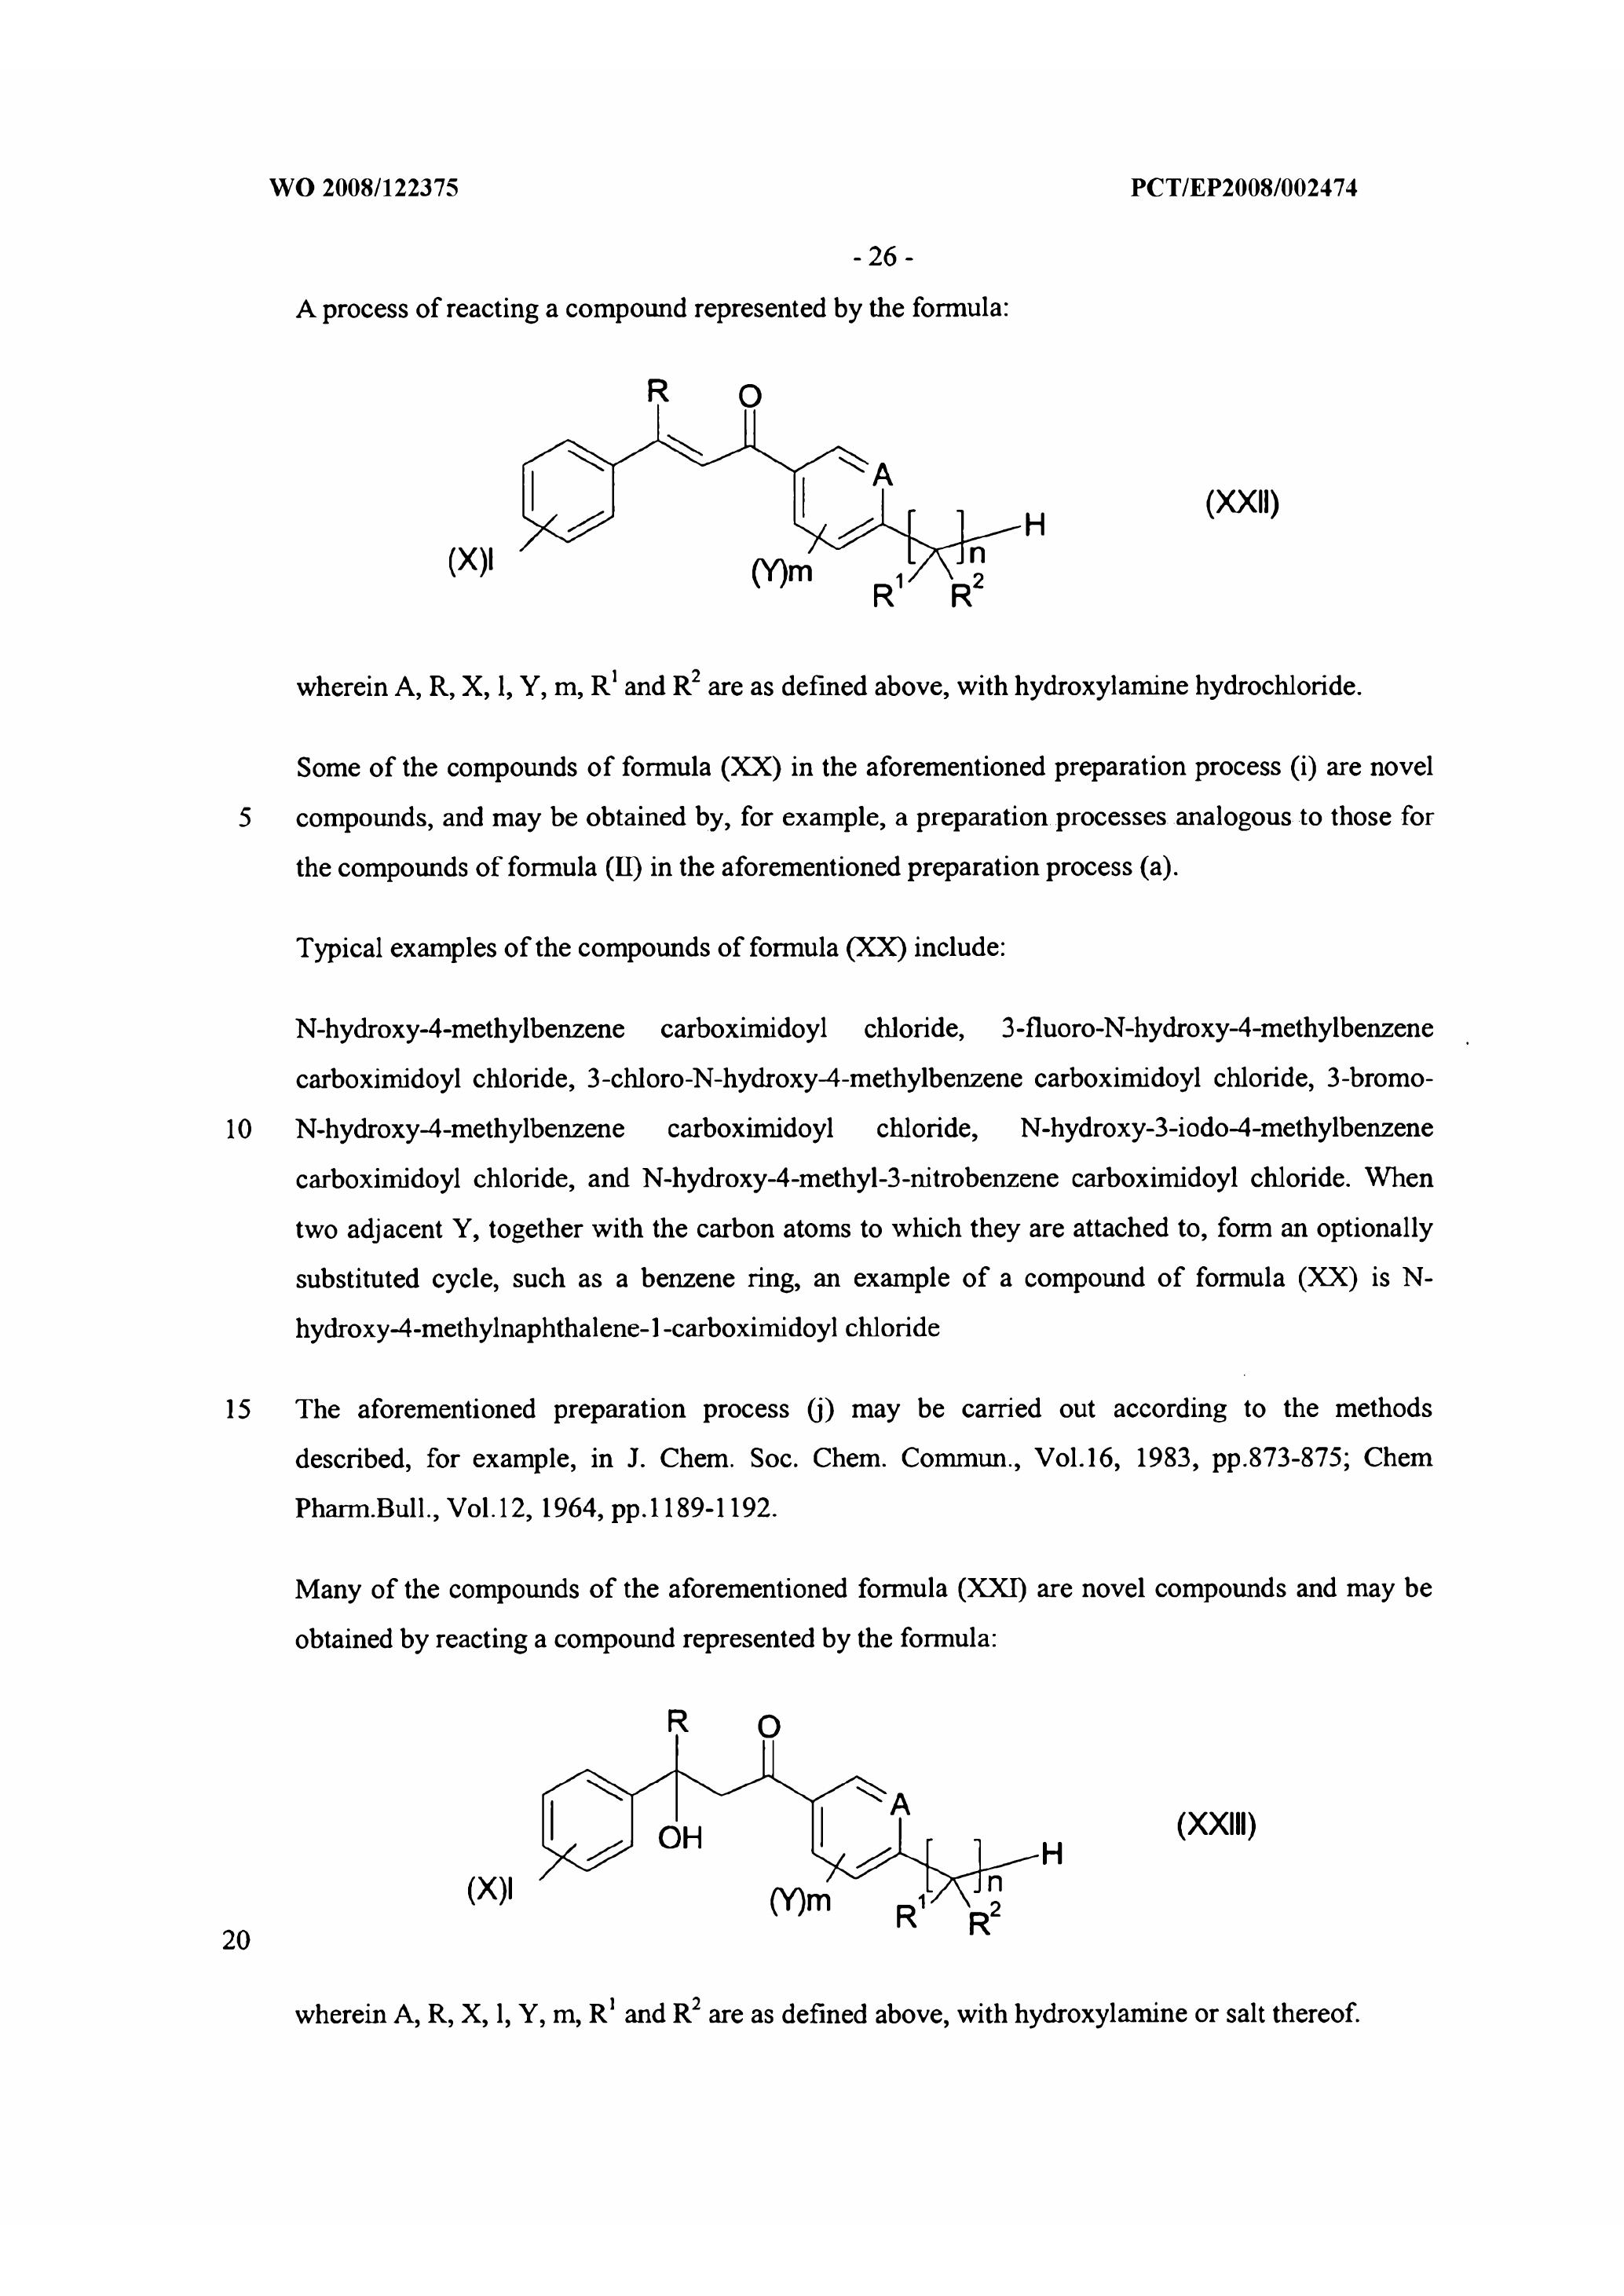reactions: (257, 265, 1404, 710)
